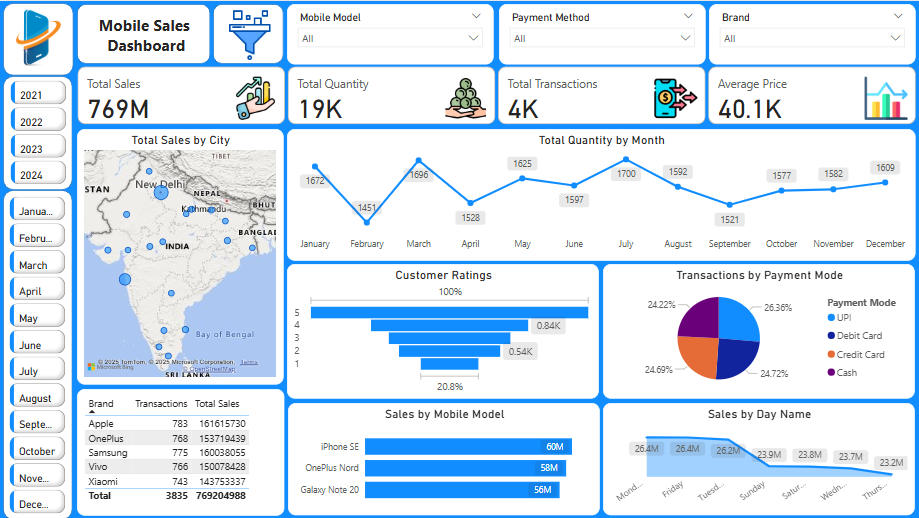

The page's visual inventory and layout, read from the dashboard file:
{"tool":"powerbi","page":{"name":"Page 1","canvas":[1280,720],"ordinal":0},"visuals":[{"type":"shape","box":[4.3,2.9,97.9,100.8],"z":0},{"type":"image","box":[10.1,5.8,86.4,90.7],"z":1000},{"type":"shape","box":[4.3,262.1,96.5,457.9],"z":2000},{"type":"advancedSlicerVisual","fields":{"Values":["Date Calendar.Calender Dates.Variation.Date Hierarchy.Month"]},"box":[8.6,266.4,87.8,450.7],"z":3000},{"type":"cardVisual","fields":{"Data":["Sales_Data.Total Sales","Sales_Data.Total Quantity","Sales_Data.Total Transactions","Sales_Data.Average Price"]},"box":[102.2,86.4,1176.5,90.7],"z":4000},{"type":"slicer","fields":{"Values":["Sales_Data.Payment Method"]},"box":[692.6,4.3,286.6,83.5],"z":5000},{"type":"slicer","fields":{"Values":["Sales_Data.Brand"]},"box":[985,4.3,286.6,83.5],"z":6000},{"type":"slicer","fields":{"Values":["Sales_Data.Mobile Model"]},"box":[398.9,4.3,286.6,83.5],"z":7000},{"type":"shape","box":[295.2,4.3,97.9,83],"z":8000},{"type":"image","box":[252,7.2,190.1,80.6],"z":9000},{"type":"shape","box":[106.6,4.3,185,83],"z":10000},{"type":"textbox","box":[110.9,14.4,184.3,66.2],"z":11000},{"type":"map","fields":{"Category":["Sales_Data.City"],"Size":["Sales_Data.Total Sales"]},"box":[106.6,177.1,286.6,355],"z":12000},{"type":"lineChart","fields":{"Category":["Date Calendar.Calender Dates.Variation.Date Hierarchy.Month"],"Y":["Sales_Data.Total Quantity"]},"box":[398.9,177.1,872.6,182.9],"z":13000},{"type":"funnel","title":"Customer Ratings","fields":{"Category":["Sales_Data.Customer Ratings"],"Y":["CountNonNull(Sales_Data.Customer Ratings)"]},"box":[398.9,365.8,433.4,187.2],"z":14000},{"type":"pieChart","fields":{"Y":["Sales_Data.Total Transactions"],"Category":["Sales_Data.Payment Method"]},"box":[838.1,365.8,433.4,187.2],"z":15000},{"type":"barChart","fields":{"Y":["Sales_Data.Total Sales"],"Category":["Sales_Data.Mobile Model"]},"box":[400.3,558.7,433.4,155.5],"z":16000},{"type":"areaChart","fields":{"Y":["Sales_Data.Total Sales"],"Category":["Date Calendar.Day Name"]},"box":[838.1,558.7,433.4,155.5],"z":17000},{"type":"tableEx","fields":{"Values":["Sales_Data.Brand","Sales_Data.Total Transactions","Sales_Data.Total Sales"]},"box":[106.6,538.6,288,175.7],"z":18000},{"type":"shape","box":[4.3,103.7,96.5,158.4],"z":19000},{"type":"advancedSlicerVisual","fields":{"Values":["Date Calendar.Calender Dates.Variation.Date Hierarchy.Year"]},"box":[10.1,105.1,87.8,154.1],"z":20000}]}

Visuals, with their boxes in screenshot pixels (x1, y1, x2, y2), scaled from the page's 1280x720 canvas onto the 919x518 screenshot:
shape: (x1=3, y1=2, x2=73, y2=75)
image: (x1=7, y1=4, x2=69, y2=69)
shape: (x1=3, y1=189, x2=72, y2=517)
advancedSlicerVisual - Date Calendar.Calender Dates.Variation.Date Hierarchy.Month: (x1=6, y1=192, x2=69, y2=516)
cardVisual - Sales_Data.Total Sales x Sales_Data.Total Quantity: (x1=73, y1=62, x2=918, y2=127)
slicer - Sales_Data.Payment Method: (x1=497, y1=3, x2=703, y2=63)
slicer - Sales_Data.Brand: (x1=707, y1=3, x2=913, y2=63)
slicer - Sales_Data.Mobile Model: (x1=286, y1=3, x2=492, y2=63)
shape: (x1=212, y1=3, x2=282, y2=63)
image: (x1=181, y1=5, x2=317, y2=63)
shape: (x1=77, y1=3, x2=209, y2=63)
textbox: (x1=80, y1=10, x2=212, y2=58)
map - Sales_Data.City x Sales_Data.Total Sales: (x1=77, y1=127, x2=282, y2=383)
lineChart - Date Calendar.Calender Dates.Variation.Date Hierarchy.Month x Sales_Data.Total Quantity: (x1=286, y1=127, x2=913, y2=259)
"Customer Ratings" funnel: (x1=286, y1=263, x2=598, y2=398)
pieChart - Sales_Data.Total Transactions x Sales_Data.Payment Method: (x1=602, y1=263, x2=913, y2=398)
barChart - Sales_Data.Total Sales x Sales_Data.Mobile Model: (x1=287, y1=402, x2=599, y2=514)
areaChart - Sales_Data.Total Sales x Date Calendar.Day Name: (x1=602, y1=402, x2=913, y2=514)
tableEx - Sales_Data.Brand x Sales_Data.Total Transactions: (x1=77, y1=387, x2=283, y2=514)
shape: (x1=3, y1=75, x2=72, y2=189)
advancedSlicerVisual - Date Calendar.Calender Dates.Variation.Date Hierarchy.Year: (x1=7, y1=76, x2=70, y2=186)
